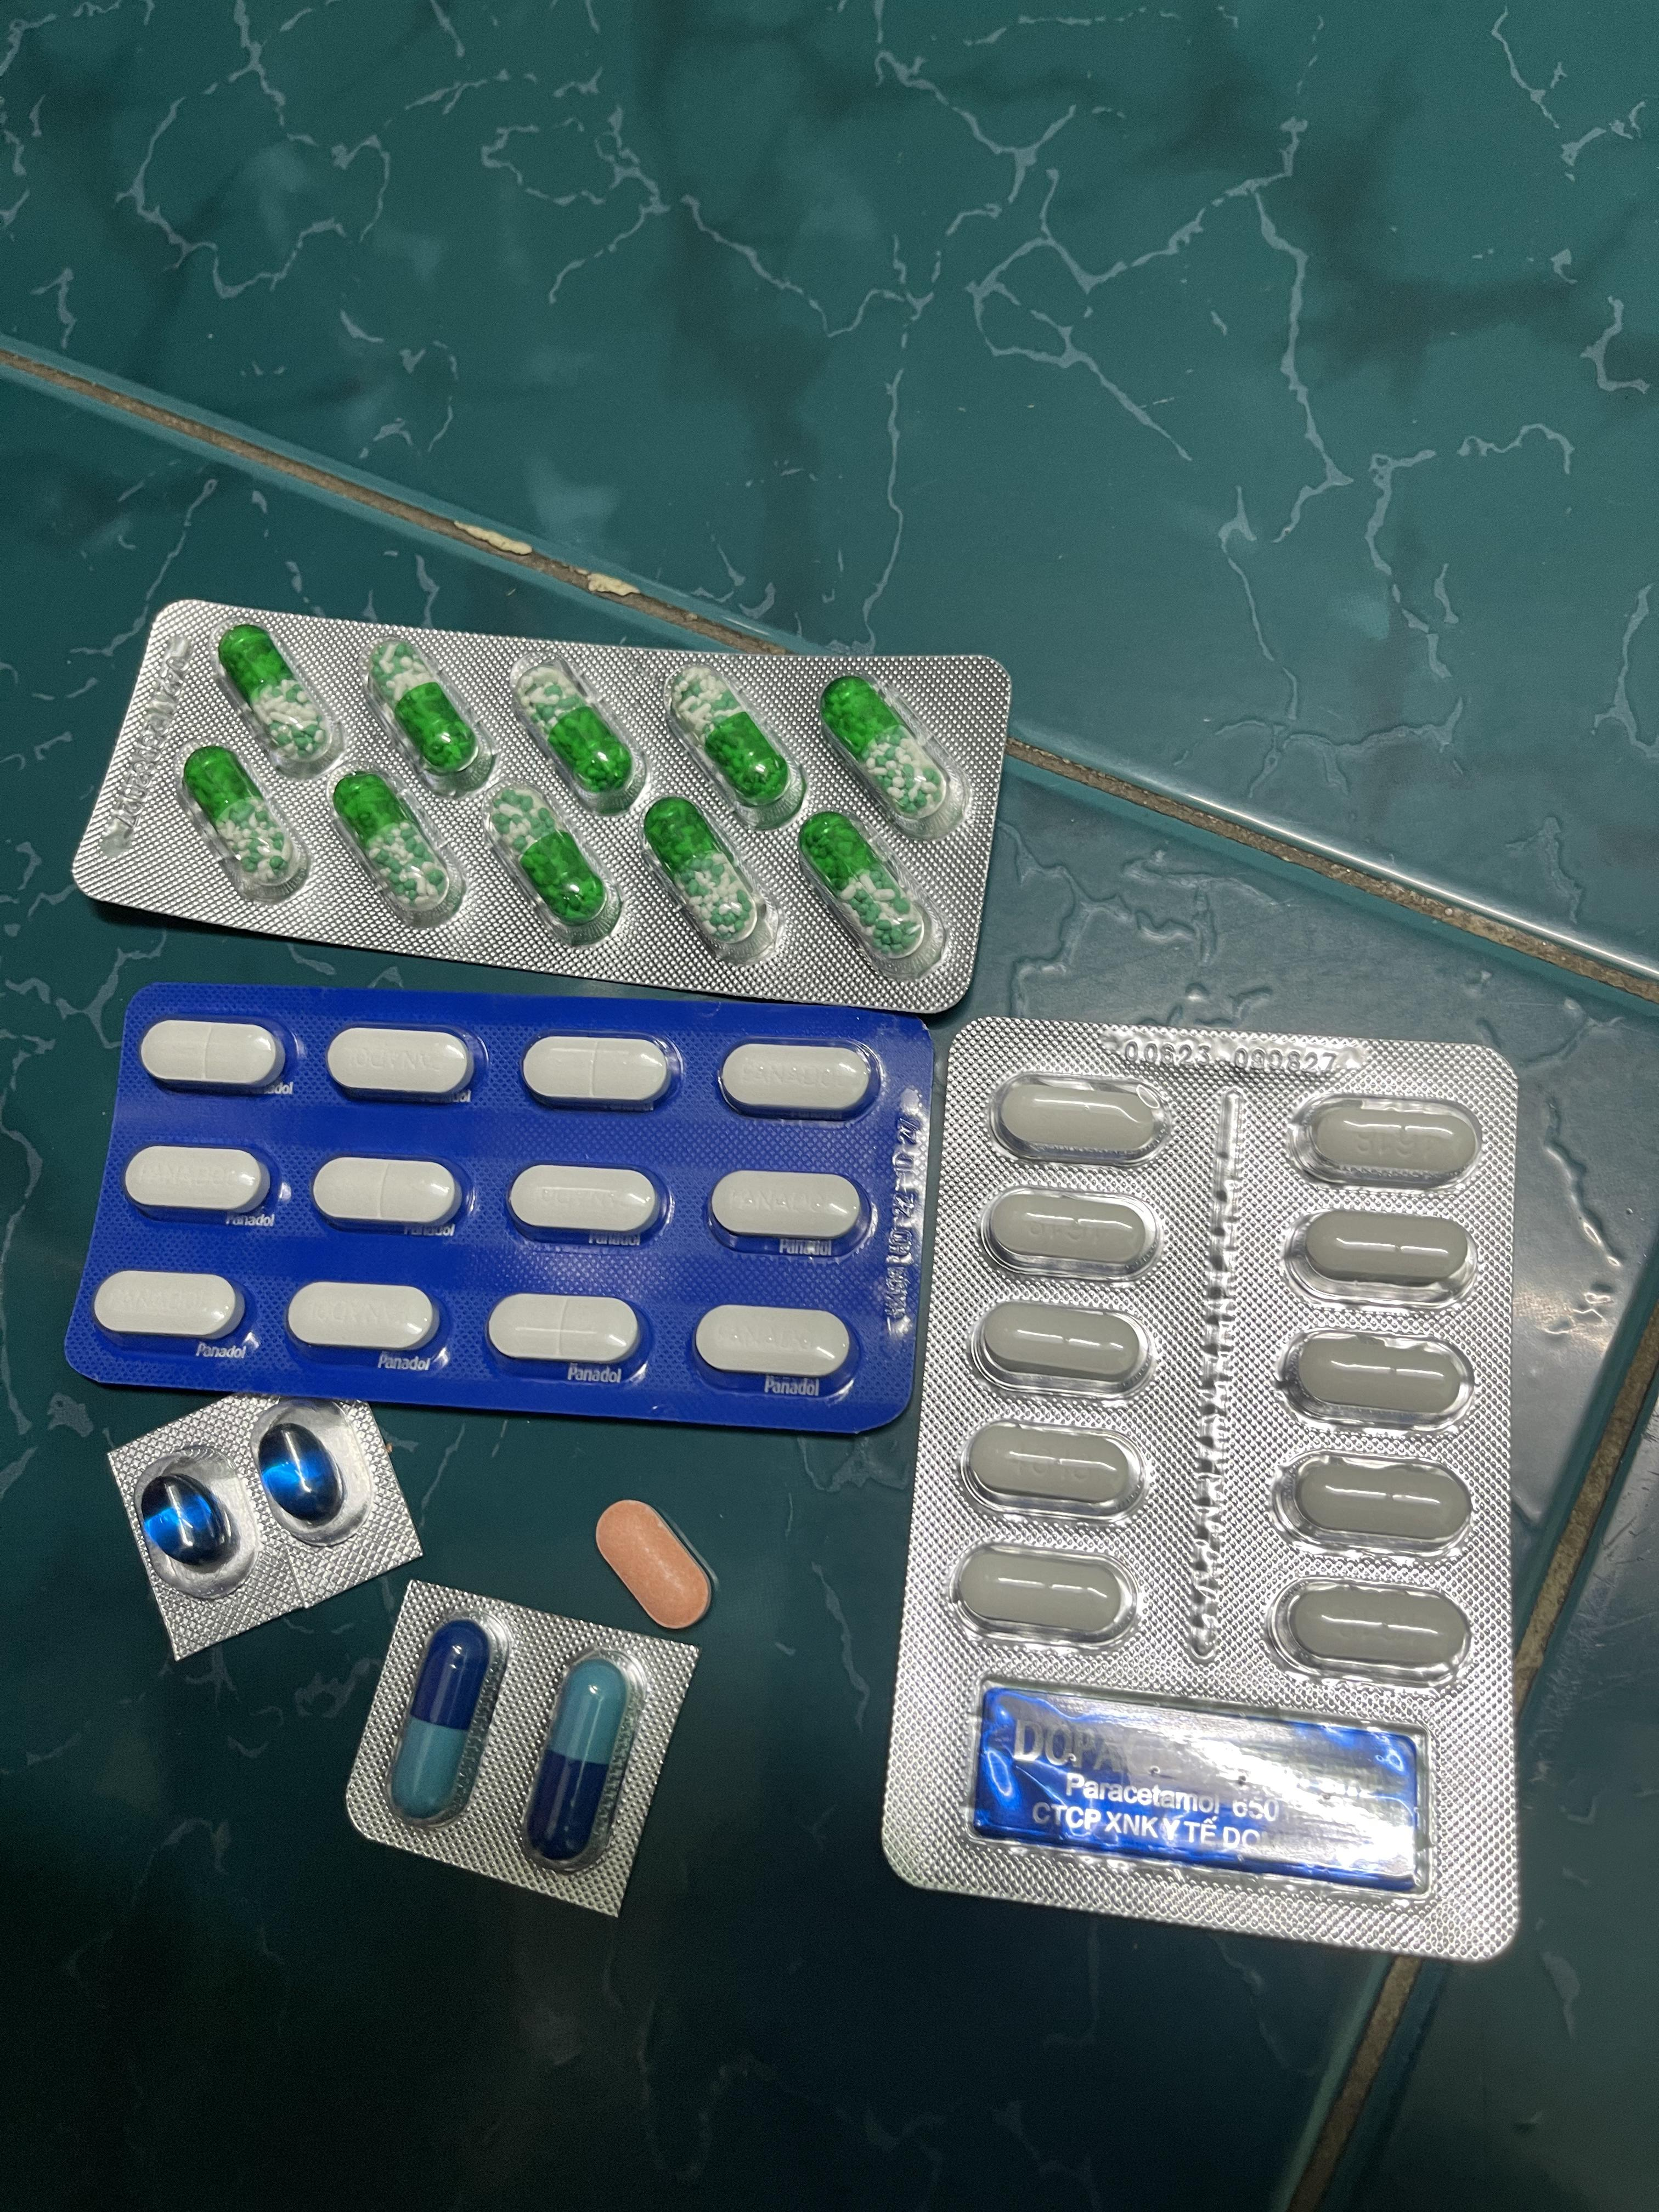Lincomyxin_500mg: (258, 1421, 345, 1529), (141, 1474, 234, 1566)
Loratadine_10mg: (594, 1498, 713, 1630)
Paracetamol_350mg: (695, 1305, 857, 1388), (718, 1042, 880, 1118), (507, 1163, 666, 1240), (709, 1169, 868, 1245), (486, 1292, 643, 1369), (521, 1035, 678, 1109), (288, 1280, 441, 1355), (328, 1026, 479, 1101), (139, 1019, 288, 1096), (312, 1155, 460, 1231), (122, 1144, 268, 1221), (91, 1270, 239, 1345)
Paracetamol_500mg: (1274, 1578, 1476, 1686), (1274, 1451, 1476, 1554), (1281, 1331, 1478, 1428), (950, 1545, 1134, 1648), (1290, 1092, 1483, 1188), (960, 1421, 1143, 1519), (972, 1298, 1147, 1392), (1295, 1211, 1476, 1298), (976, 1184, 1147, 1275), (985, 1068, 1152, 1158)
Paracetamol_650mg: (643, 796, 769, 949), (798, 812, 925, 958), (181, 747, 305, 895), (331, 772, 457, 916), (216, 624, 338, 772), (481, 787, 608, 927), (669, 669, 795, 810), (819, 676, 941, 820), (514, 664, 631, 796), (371, 643, 477, 779)
pill: (528, 1656, 629, 1864), (392, 1622, 495, 1820)
